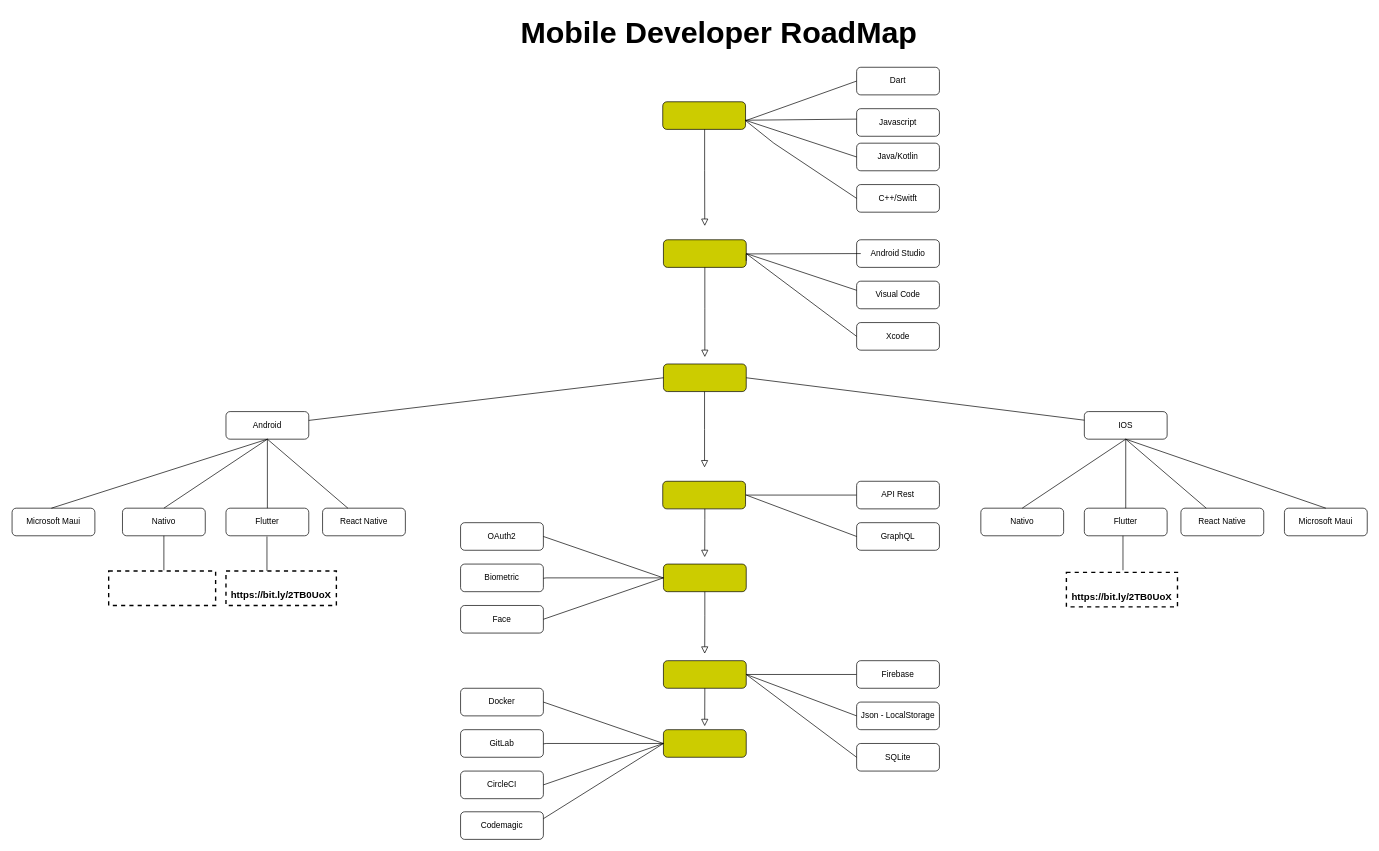
This 1379x851 diagram has some shape labels left out. Each missing label, with the centre of its shape:
"Autenticação" goes at point 704,577.
"CI/CD" goes at point 704,743.
"HTTP" goes at point 704,495.
"https://bit.ly/2TyDS23" goes at point 162,588.
"IDE" goes at point 704,253.
"Lógica de programação" goes at point 704,115.
"Plataforma" goes at point 704,377.
"Storage" goes at point 704,674.
